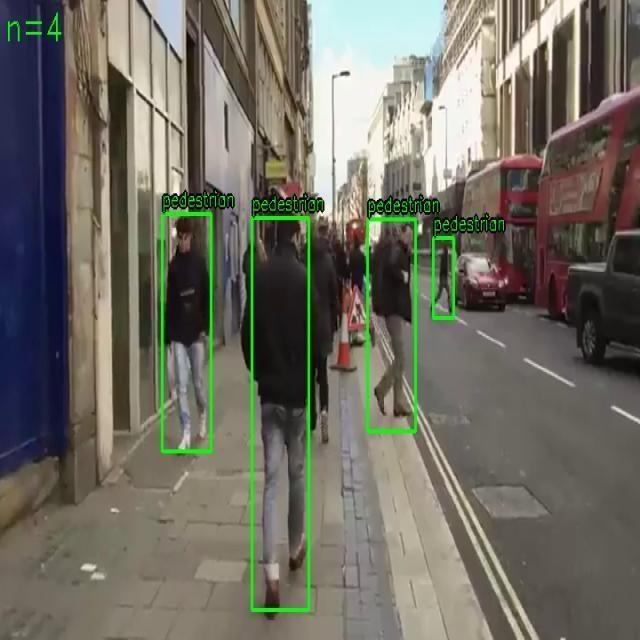person: (252, 217, 310, 611), (162, 213, 212, 452), (367, 219, 416, 432), (432, 237, 454, 319)
